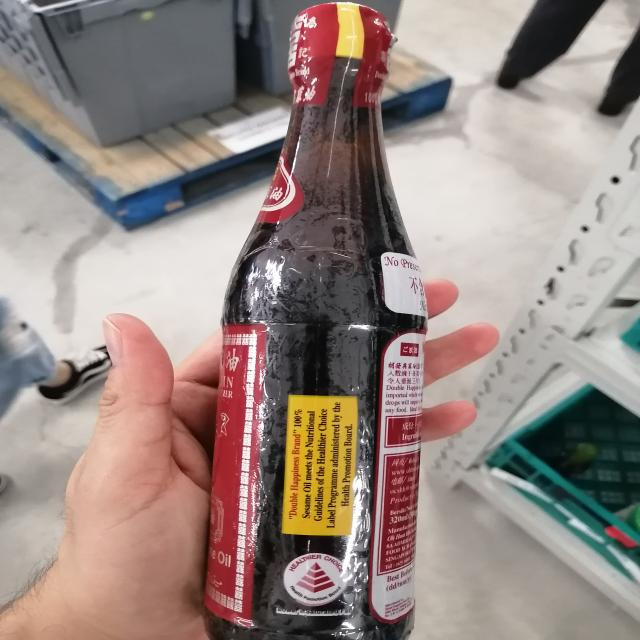object_name: (221, 5, 409, 640)
